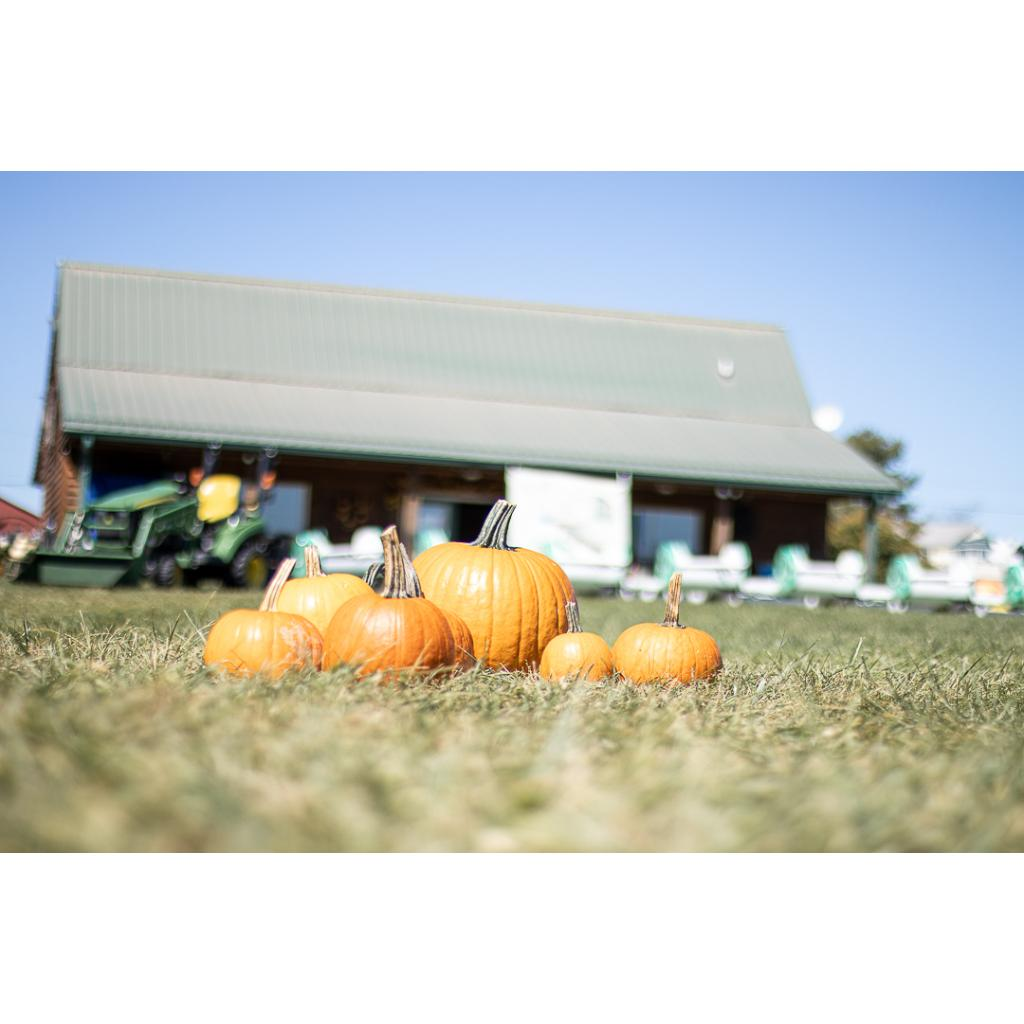pumpkin: (414, 501, 576, 671), (323, 525, 456, 675), (204, 559, 322, 679), (612, 573, 722, 683), (276, 545, 372, 635), (540, 603, 614, 682), (442, 611, 476, 670), (399, 543, 424, 599)
